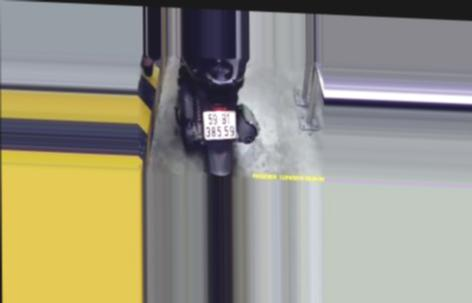License_Plate: (201, 107, 240, 143)
